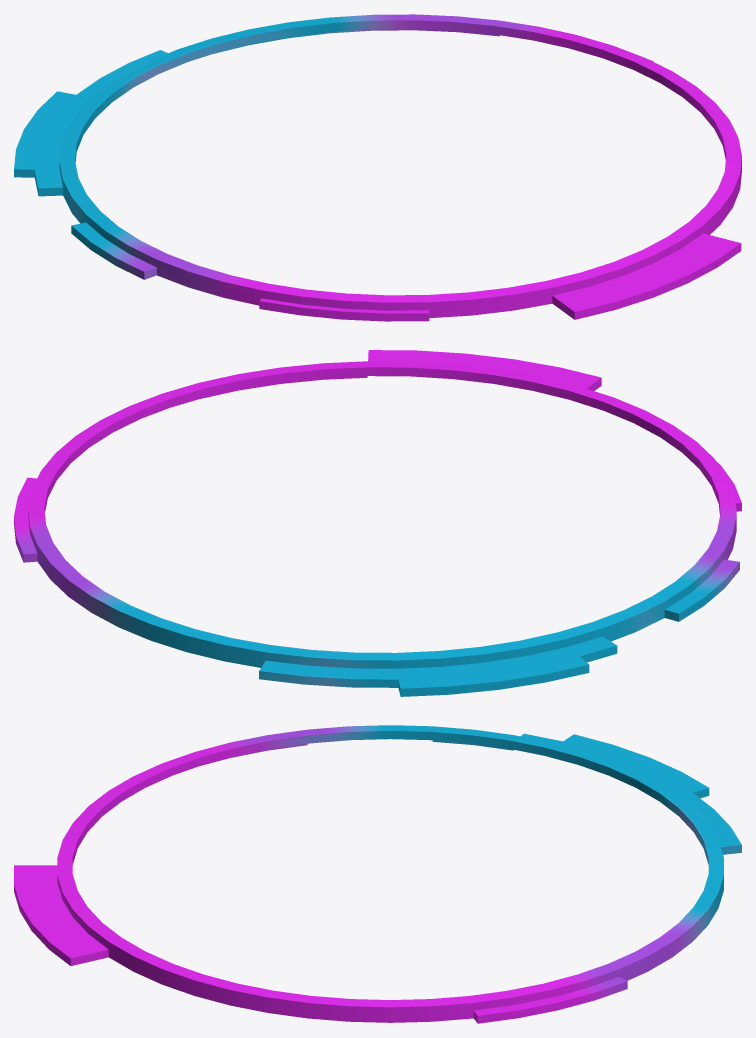
The picture shows the model from 3 angles, top to bottom: view 1: azimuth 30°, elevation 25°; view 2: azimuth 150°, elevation 25°; view 3: azimuth 270°, elevation 25°; orthographic projection. The views are drawn at different scales.
Visible parts, largest first — view 1: en1; view 2: en1; view 3: en1.
Part boxes in pixels (left/top/right/bottom): en1: left=14, top=14, right=741, bottom=321; en1: left=14, top=350, right=741, bottom=696; en1: left=14, top=725, right=741, bottom=1023.
Size of the model in its own units: 790 by 20.77 by 839.
